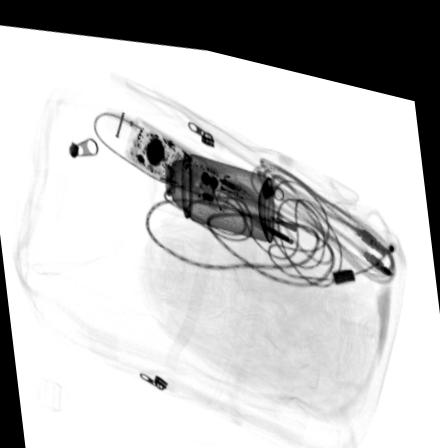Sprayer: (144, 134, 276, 231)
